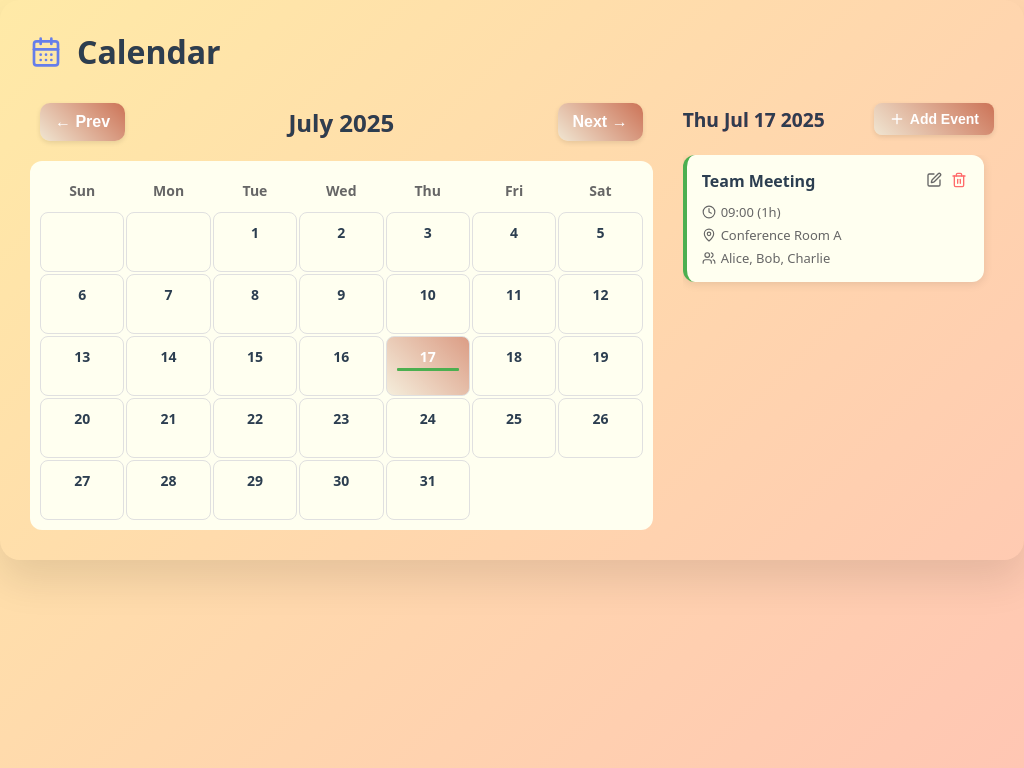
Test: Calendar Component › shows "No events for this date" if no events
The width and height of the screenshot is (1024, 768).
Step 1. Click the text "1" → (255,232), box [251,223,259,242]
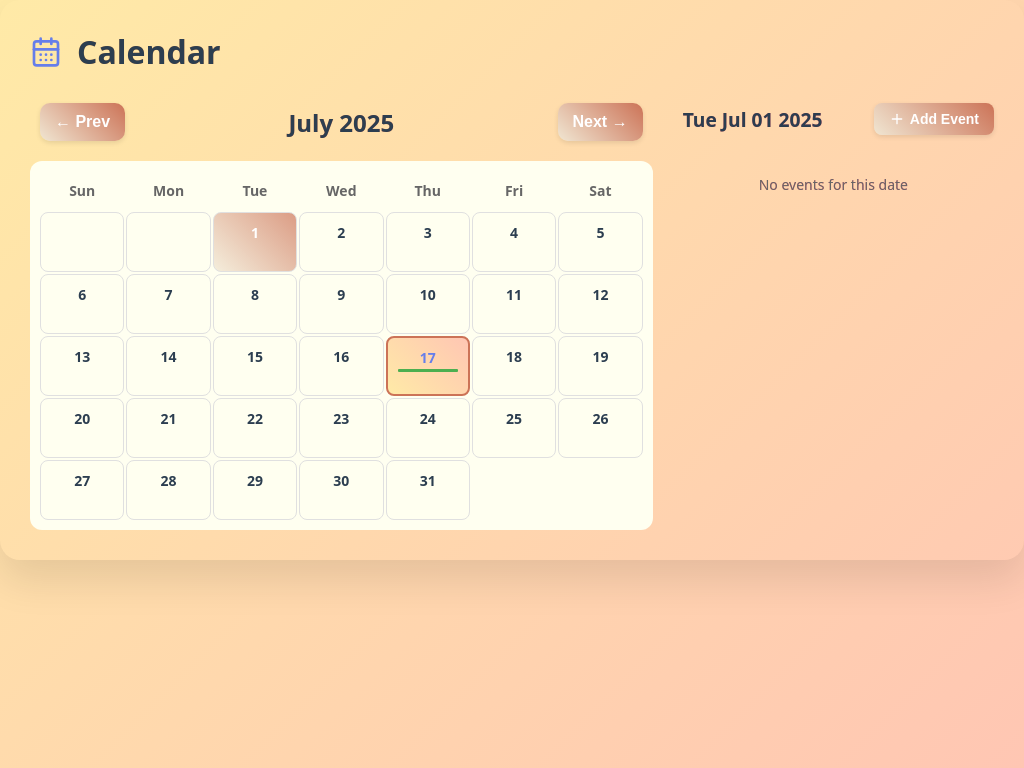
Expected: the text "No events for this date" is shown, [759,175,908,194]
